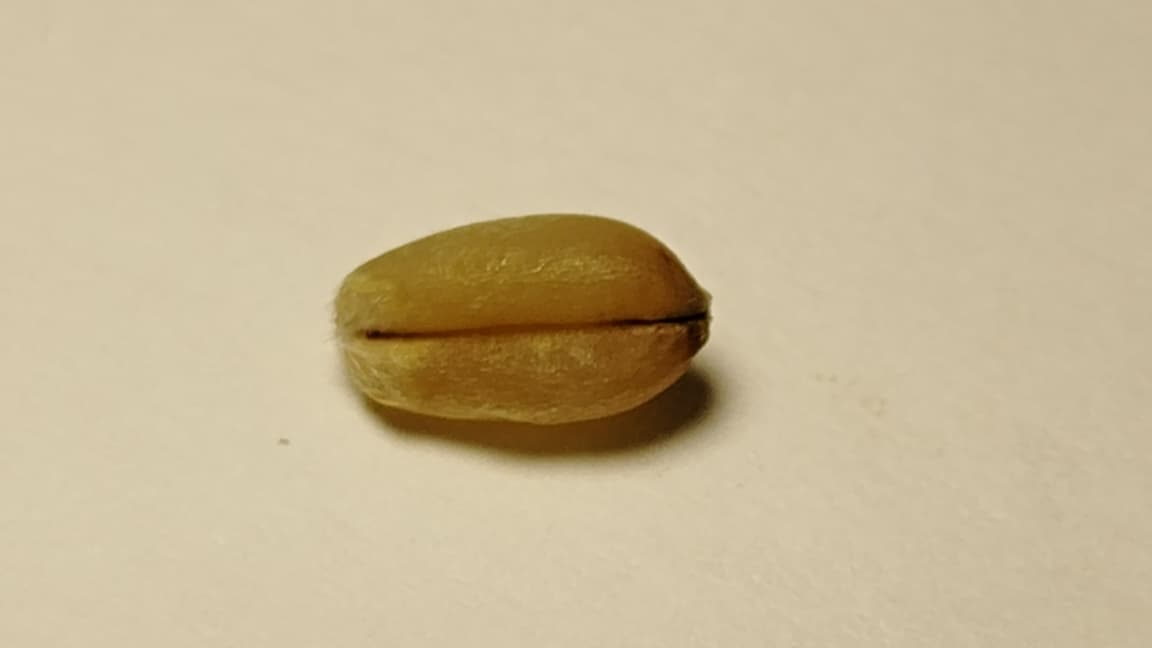healthy: (335, 214, 709, 425)
